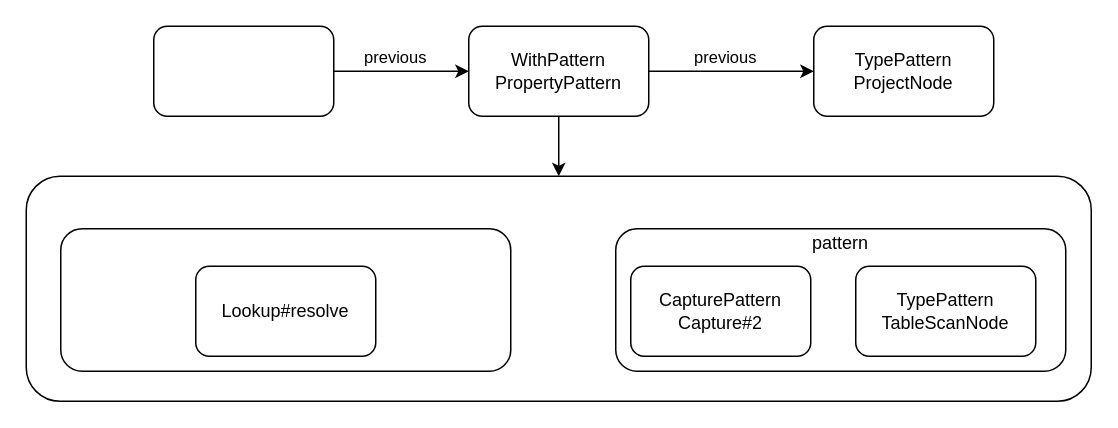
This 1118x428 diagram has some shape labels left out. Here are the shapes that lost their labels. From the top down, the box of each, then its label:
(152, 25, 334, 116): CapturePattern Capture#1
(59, 227, 511, 371): property
(25, 175, 1091, 401): PropertyPattern
